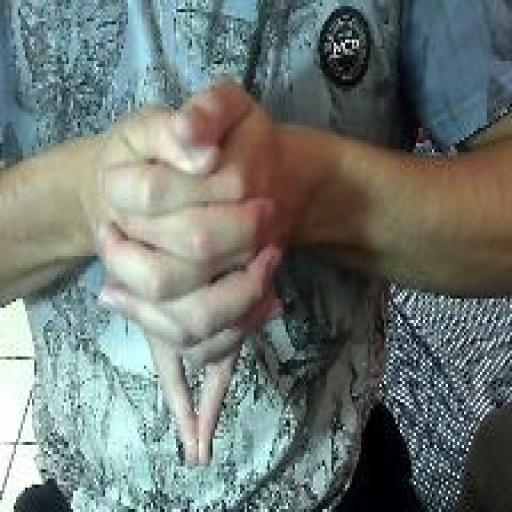Tatsu -dragon-: (95, 65, 289, 474)
